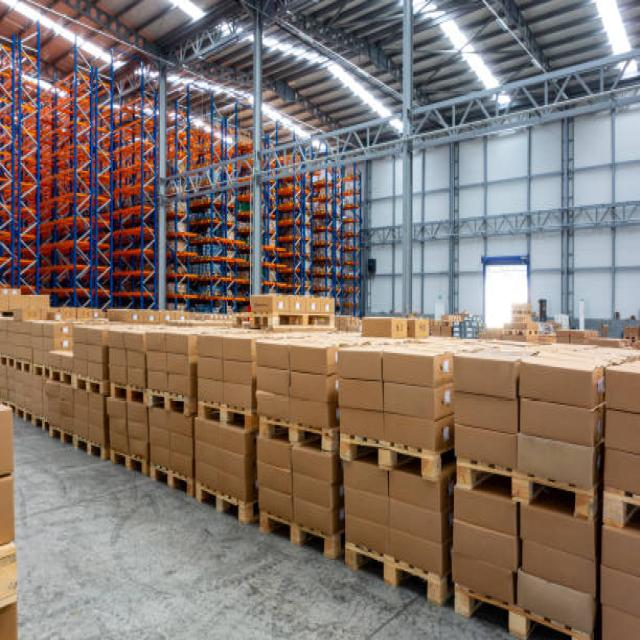Wooden-Pallets: (110, 388, 640, 543), (452, 444, 600, 530), (339, 535, 452, 620), (453, 578, 589, 640), (342, 428, 442, 483), (256, 498, 338, 565), (258, 402, 334, 451), (193, 471, 254, 529), (150, 453, 191, 503), (197, 394, 250, 432), (105, 441, 147, 482), (69, 431, 107, 468), (69, 368, 108, 404), (105, 378, 146, 409), (150, 389, 193, 416)
